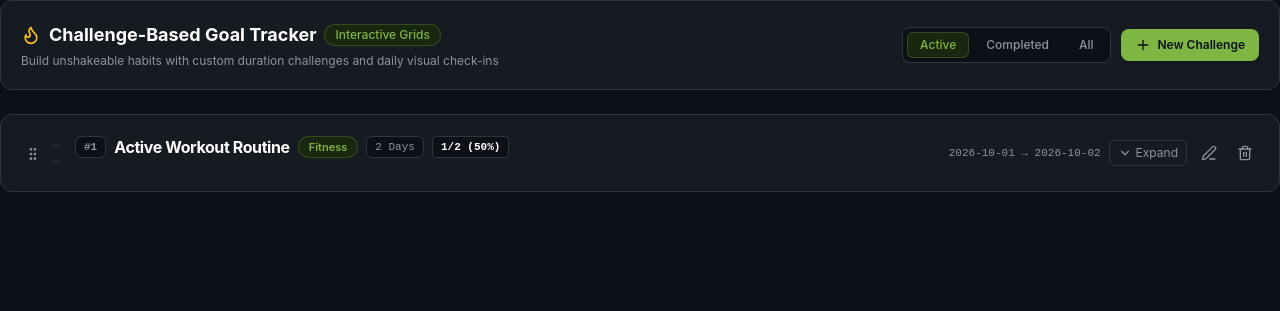
ChallengeTracker Component › moves completed challenges to Completed tab and excludes them from Active tab
The image size is (1280, 311).
Expected: the heading "Active Workout Routine" is shown, [114,135,290,159]
Expected: the text "Completed Reading Sprint" is not shown
Switch to 'completed' tab
Click the button "Completed".
click(1018, 45)  # box [973,32,1062,58]
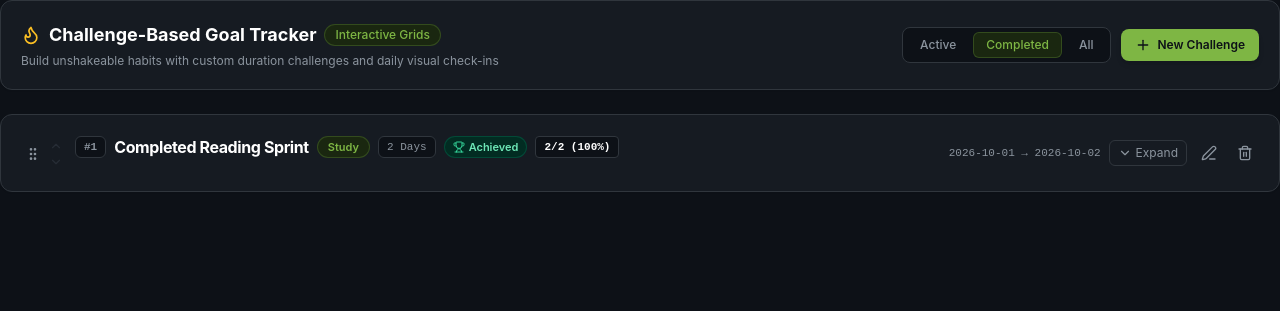
Now the heading "Active Workout Routine" is gone
Now the heading "Completed Reading Sprint" is shown, box [114,135,309,159]
Switch to 'all' tab: both challenges are visible
Click the button "All".
click(1086, 45)  # box [1066,32,1106,58]
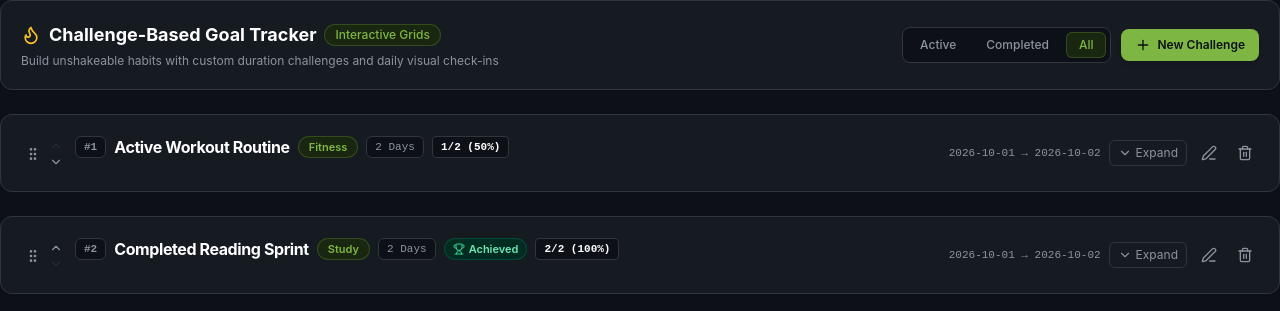
Now the heading "Completed Reading Sprint" is shown, box [114,237,309,261]
Now the heading "Active Workout Routine" is shown, box [114,135,290,159]
